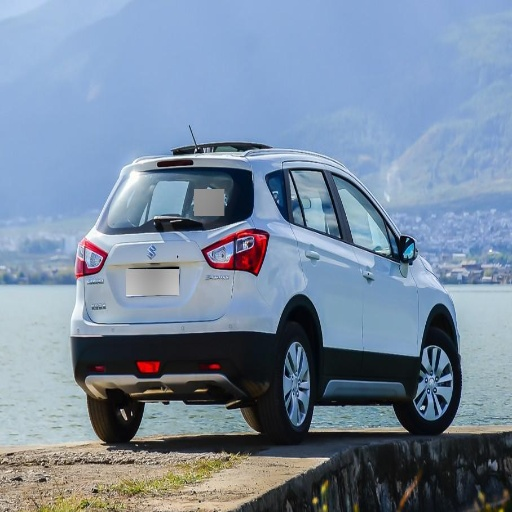back_bumper: (71, 269, 283, 404)
back_right_door: (284, 161, 364, 379)
trunk: (78, 229, 235, 323)
